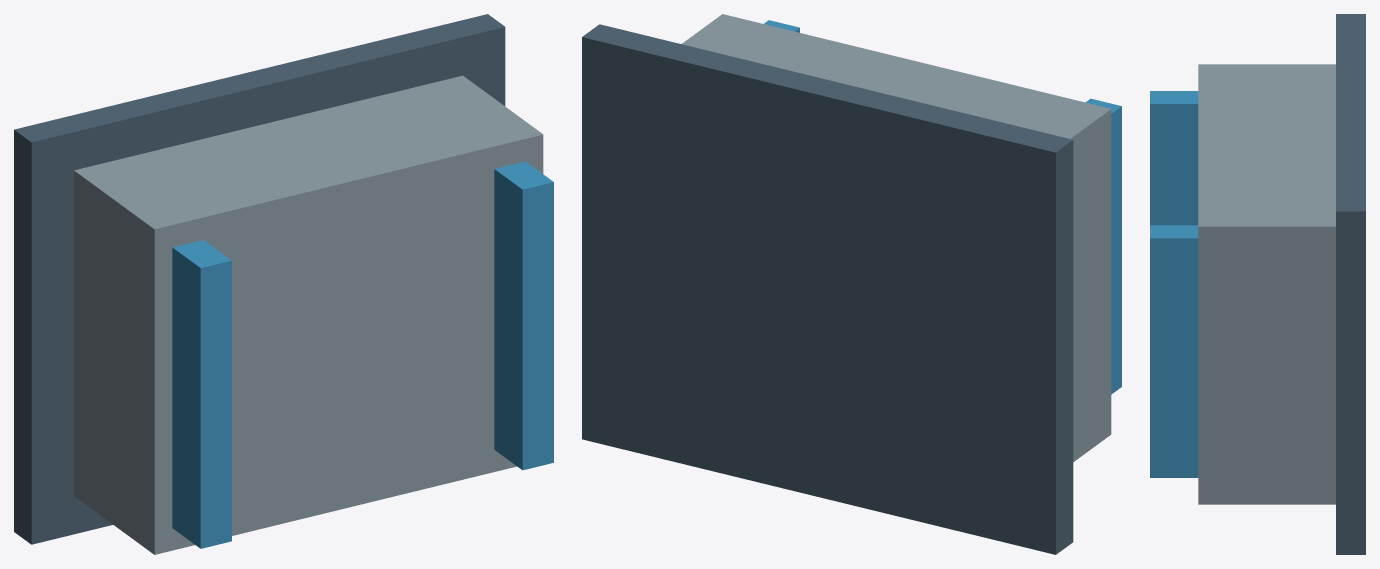
The model's file is b_strategy_stage2.glb.
3 views of the same model, side by side, from view 1: azimuth 30°, elevation 25°; view 2: azimuth 150°, elevation 25°; view 3: azimuth 270°, elevation 25° (orthographic). The views are drawn at different scales.
Parts seen in each view (by area): view 1: main_structure, foundation, support_1.7999999999999998, support_-1.7999999999999998; view 2: foundation, main_structure, support_-1.7999999999999998; view 3: main_structure, foundation, support_1.7999999999999998, support_-1.7999999999999998.
Boxes of the visible parts, <box> form: main_structure: <box>74,75,543,554</box>; foundation: <box>14,14,505,544</box>; support_1.7999999999999998: <box>494,161,553,470</box>; support_-1.7999999999999998: <box>172,240,231,548</box>; foundation: <box>582,24,1073,554</box>; main_structure: <box>681,14,1111,461</box>; support_-1.7999999999999998: <box>1085,98,1121,394</box>; main_structure: <box>1198,64,1335,504</box>; foundation: <box>1336,14,1365,554</box>; support_1.7999999999999998: <box>1150,225,1198,477</box>; support_-1.7999999999999998: <box>1150,91,1198,225</box>.
Bounding box in the file's own units: 5.3 × 4.3 × 2.45.
